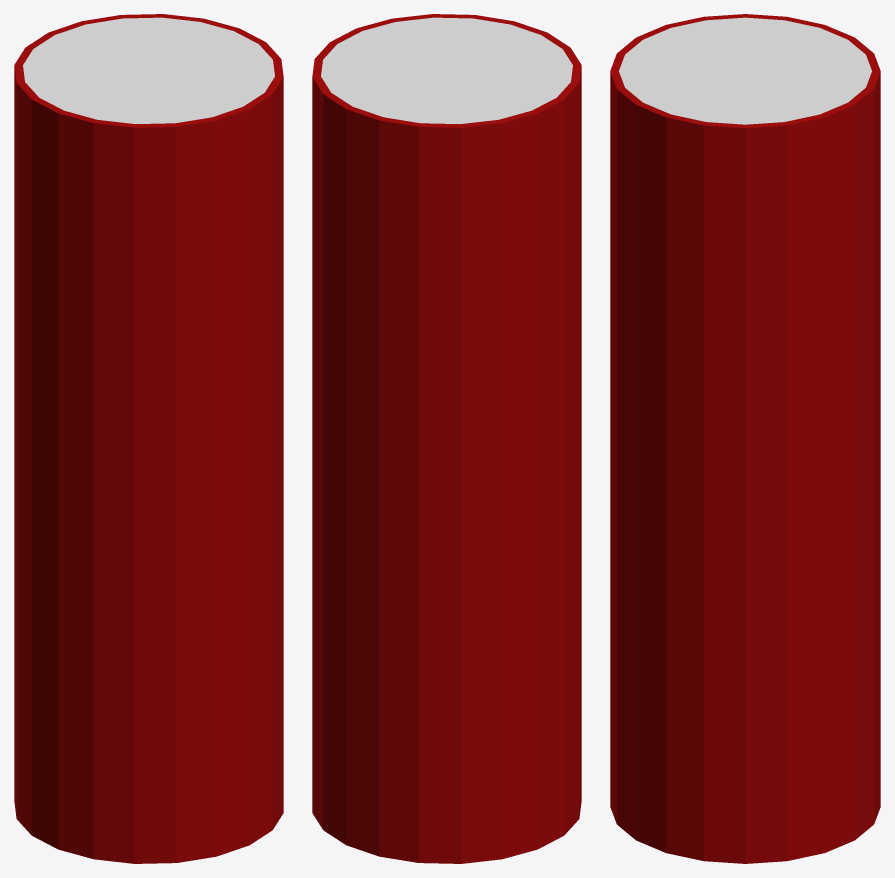
File: button.fbx
The picture shows the model from 3 angles, left to right: view 1: azimuth 30°, elevation 25°; view 2: azimuth 150°, elevation 25°; view 3: azimuth 270°, elevation 25°; orthographic projection.
Parts seen in each view (by area): view 1: pCylinder1; view 2: pCylinder1; view 3: pCylinder1.
Boxes of the visible parts, left/top/right/bottom form: pCylinder1: left=14, top=14, right=283, bottom=863; pCylinder1: left=312, top=14, right=581, bottom=863; pCylinder1: left=610, top=14, right=880, bottom=863.
Size of the model in its own units: 100 by 300 by 100.
